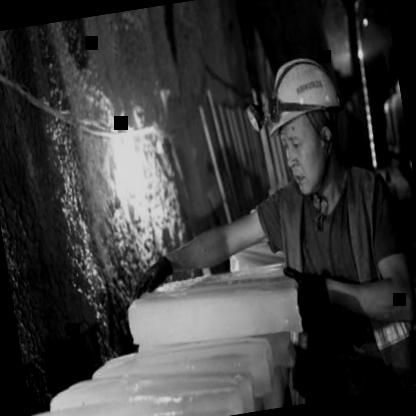helmet: (249, 35, 359, 198)
